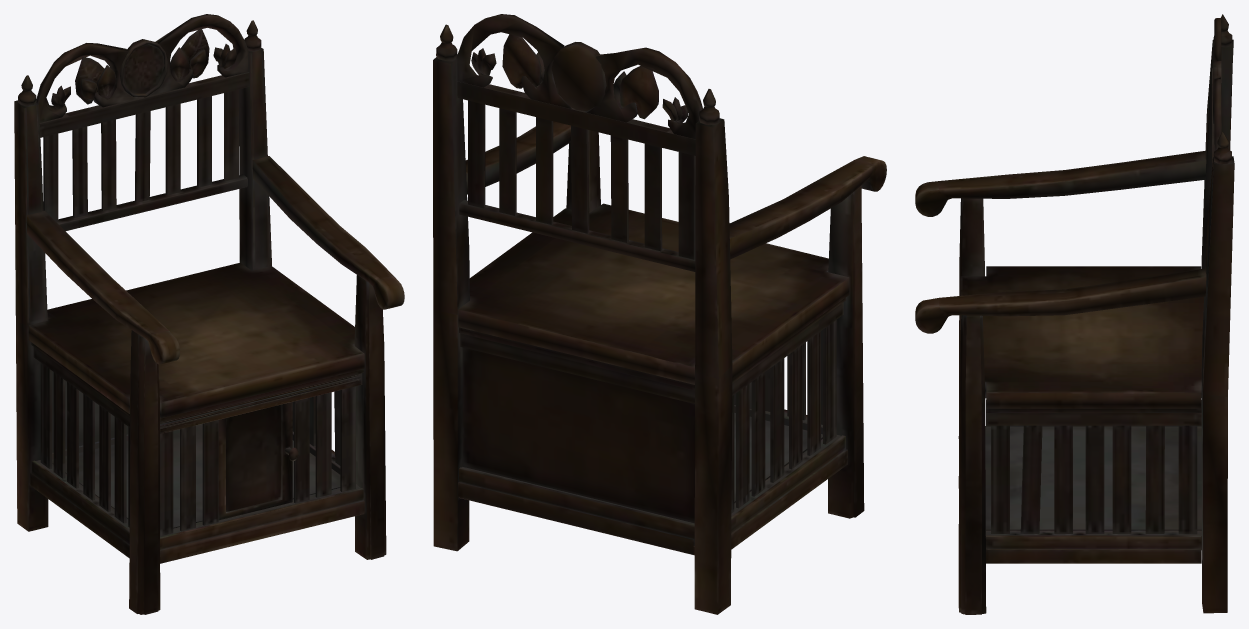
File: gallinera_chair.glb
3 views of the same model, side by side, from view 1: azimuth 30°, elevation 25°; view 2: azimuth 150°, elevation 25°; view 3: azimuth 270°, elevation 25° (orthographic). The views are drawn at different scales.
Visible parts, largest first — view 1: gallinera_chair; view 2: gallinera_chair; view 3: gallinera_chair.
Part boxes in pixels (x1=…): gallinera_chair: x1=14, y1=14, x2=404, y2=614; gallinera_chair: x1=433, y1=14, x2=886, y2=614; gallinera_chair: x1=915, y1=14, x2=1234, y2=614.
Bounding box in the file's own units: 0.58 × 1.03 × 0.6014.
1 material, 1 textured.
